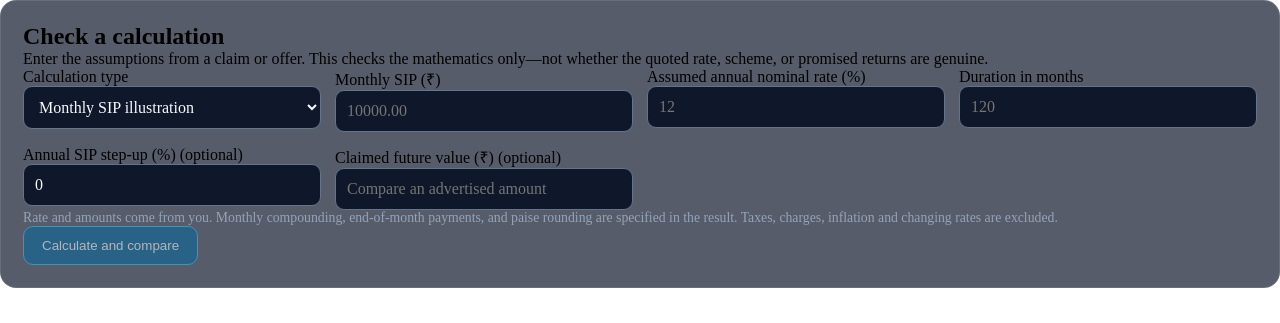
Scenario: GenieProof math-only illustration › rejects fabricated positive responses that change the source or result scenario
This screenshot has width=1280, height=323.
Type "100" into the field labelled "Monthly SIP (₹)" at (484, 111), box x1=335 y1=90 x2=633 y2=132
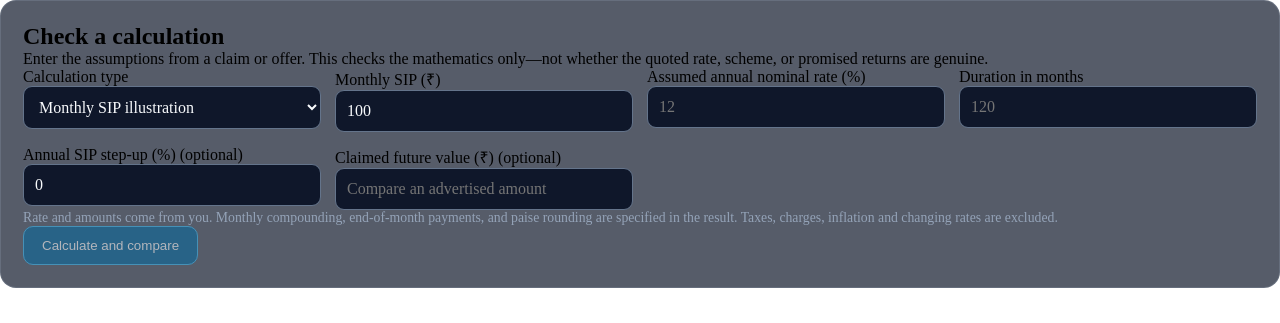
Type "0" into the field labelled "Assumed annual nominal rate (%)" at (796, 107), box x1=647 y1=86 x2=945 y2=128
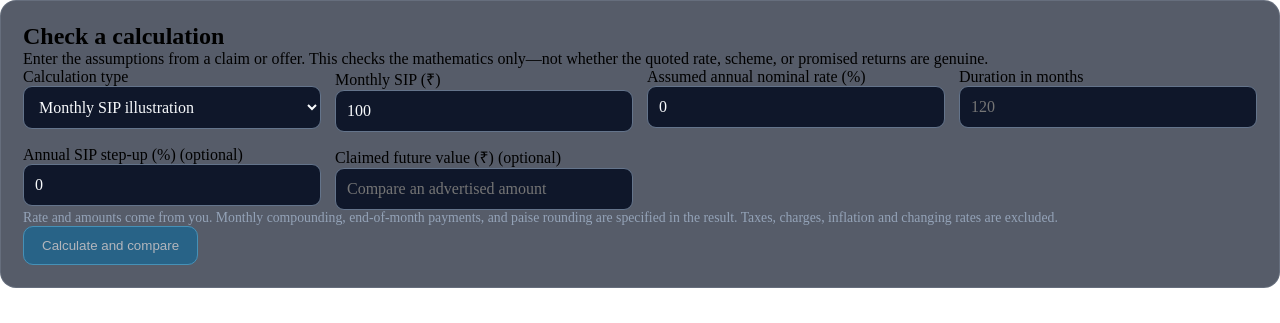
Type "12" into the field labelled "Duration in months" at (1108, 107), box x1=959 y1=86 x2=1257 y2=128
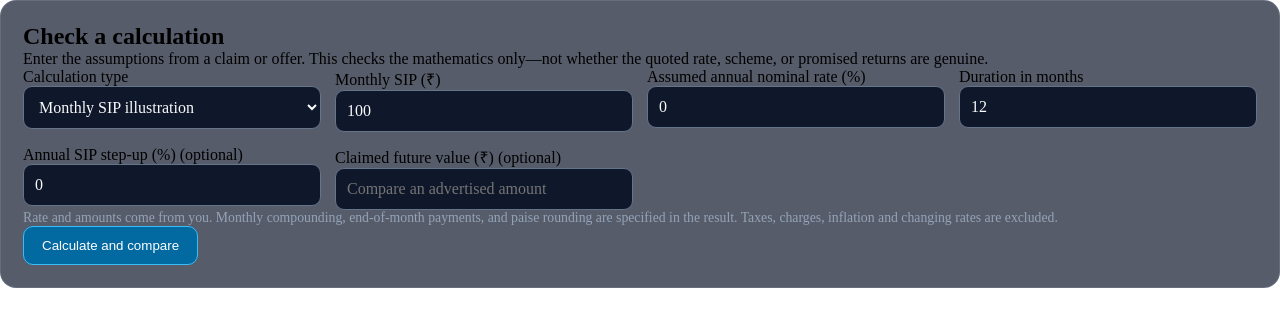
Click the button "Calculate and compare" at (111, 246), box x1=23 y1=226 x2=198 y2=265
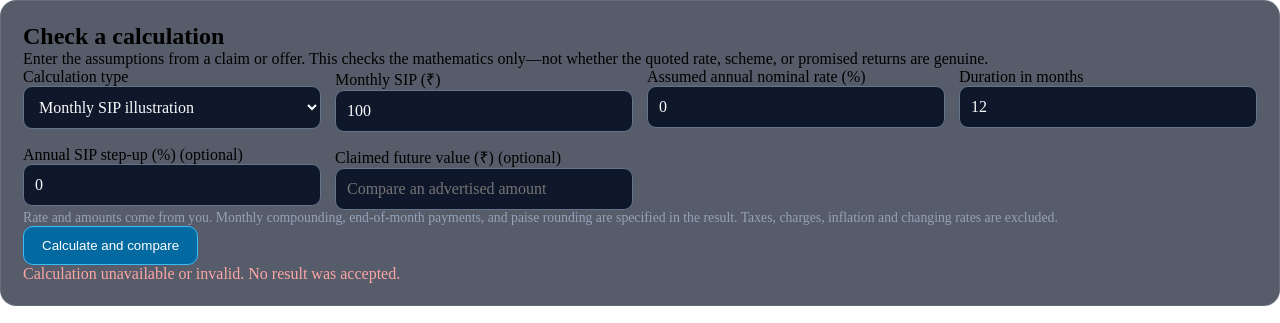
Check: the message shows "No result was accepted", box x1=23 y1=265 x2=400 y2=282
